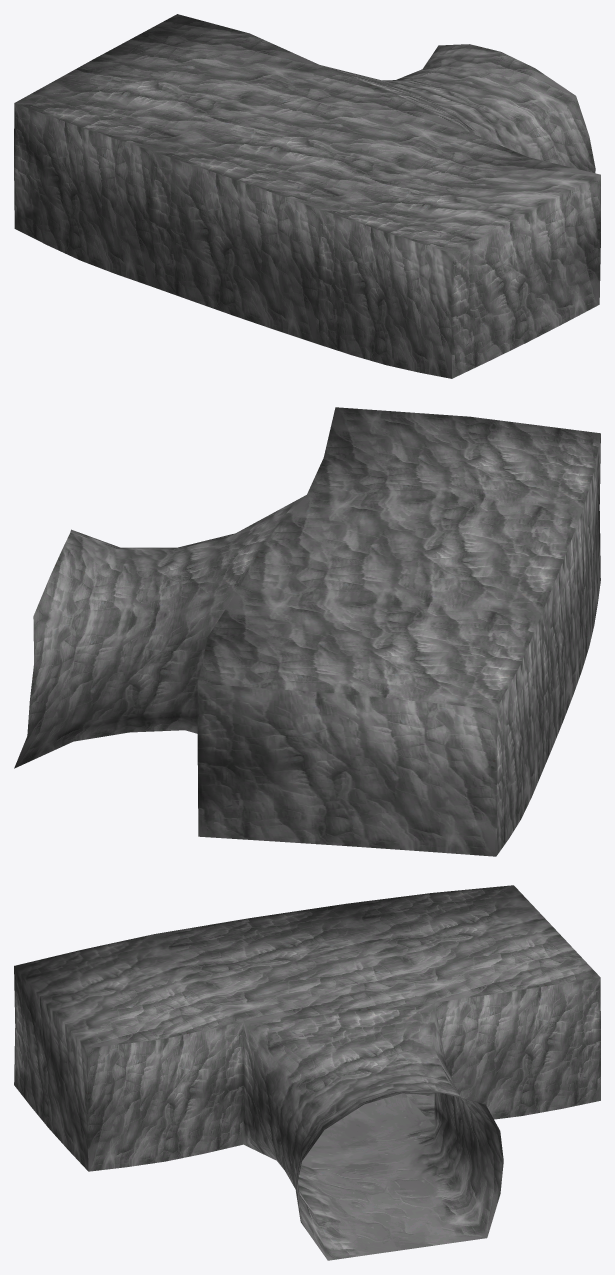
Rendered from SWORDLIGHT20_PS-AREA04_04.fbx.
3 renders of one model, top to bottom at view 1: azimuth 30°, elevation 25°; view 2: azimuth 150°, elevation 25°; view 3: azimuth 270°, elevation 25°, orthographic. The views are drawn at different scales.
Parts seen in each view (by area): view 1: SWORDLIGHT20_PS-AREA04_04; view 2: SWORDLIGHT20_PS-AREA04_04; view 3: SWORDLIGHT20_PS-AREA04_04.
Boxes of the visible parts, x1,y1,x2,y2 form: SWORDLIGHT20_PS-AREA04_04: (14,14,600,378); SWORDLIGHT20_PS-AREA04_04: (14,407,600,856); SWORDLIGHT20_PS-AREA04_04: (14,885,600,1260).
Bounding box in the file's own units: 165689 × 57001 × 186089.
4 materials, 4 textured.
